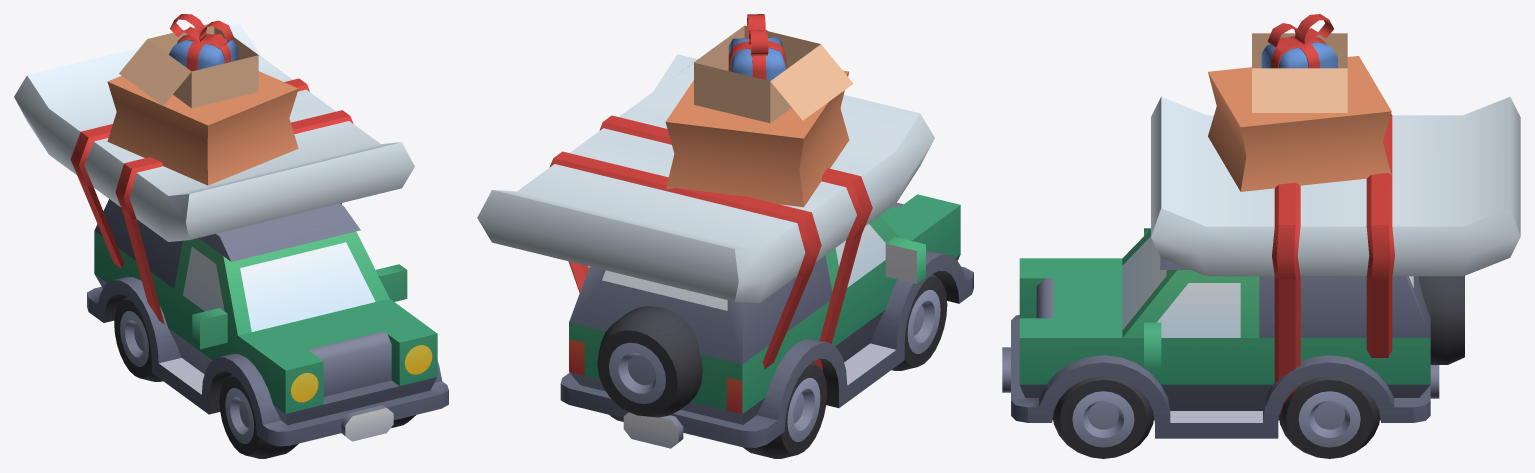
File: SM_CAR.fbx
3 renders of one model, left to right at view 1: azimuth 30°, elevation 25°; view 2: azimuth 150°, elevation 25°; view 3: azimuth 270°, elevation 25°, orthographic. The views are drawn at different scales.
Visible parts, largest first — view 1: CAR_SHELL, CAR_LOAD, CAR_TIRE_FR, CAR_TIRE_BR; view 2: CAR_LOAD, CAR_SHELL, CAR_TIRE_BR, CAR_TIRE_FR; view 3: CAR_LOAD, CAR_SHELL, Car_TIRE_FL, CAR_TIRE_BL.
Part boxes in pixels (x1,y1,x2,y2): CAR_SHELL: (87,199,448,446); CAR_LOAD: (14,14,414,324); CAR_TIRE_FR: (219,374,298,458); CAR_TIRE_BR: (114,297,162,381); CAR_LOAD: (477,14,934,371); CAR_SHELL: (560,194,973,448); CAR_TIRE_BR: (743,362,826,458); CAR_TIRE_FR: (892,274,947,370); CAR_LOAD: (1151,14,1520,414); CAR_SHELL: (1002,228,1464,438); Car_TIRE_FL: (1053,376,1153,458); CAR_TIRE_BL: (1279,376,1380,458).
Bounding box in the file's own units: 172 × 249 × 302.
2 materials, 2 textured.
